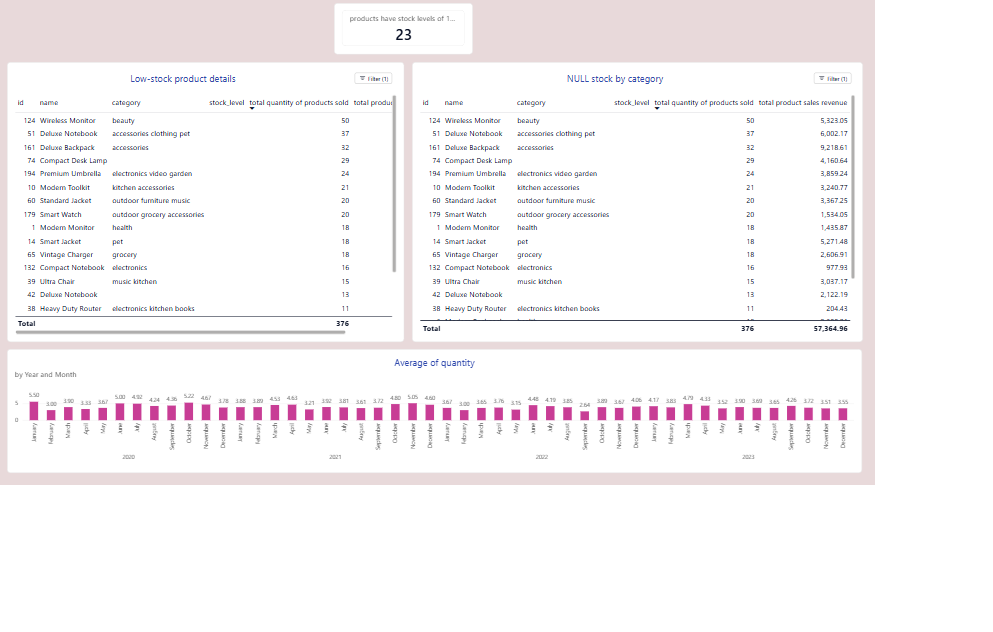

What the dashboard file says about the page in this screenshot:
{"tool":"powerbi","page":{"name":"Monthly quantity trendsupporting analysis","canvas":[1920,1080],"ordinal":3},"visuals":[{"type":"tableEx","title":"Low-stock product details","fields":{"Values":["Products.id","Products.name","Products.category","Products.stock_level","Order_items.total quantity of products sold","Order_items.total product sales revenue"]},"box":[28.1,149,857.5,604.8],"z":0},{"type":"columnChart","fields":{"Category":["Orders.order_date.Variation.Date Hierarchy.Year","Orders.order_date.Variation.Date Hierarchy.Month"],"Y":["Avg(Order_items.quantity)"]},"box":[28.1,769,1846.8,267.8],"z":1},{"type":"tableEx","title":"NULL stock by category","fields":{"Values":["Products.id","Products.name","Products.category","Products.stock_level","Order_items.total quantity of products sold","Order_items.total product sales revenue"]},"box":[901.9,148.5,974.2,604.8],"z":2},{"type":"cardVisual","fields":{"Data":["Products.products have stock levels of 10 or below"]},"box":[734.5,21.6,299.7,110.7],"z":3}]}

Visuals, with their boxes on the page's 1920x1080 design canvas (x1, y1, x2, y2). These are canvas units, not pixel positions in the 993x632 screenshot, which may show the page scaled, cropped or inside an application window:
"Low-stock product details" tableEx: {"x1": 28, "y1": 149, "x2": 886, "y2": 754}
columnChart - Orders.order_date.Variation.Date Hierarchy.Year x Orders.order_date.Variation.Date Hierarchy.Month: {"x1": 28, "y1": 769, "x2": 1875, "y2": 1037}
"NULL stock by category" tableEx: {"x1": 902, "y1": 148, "x2": 1876, "y2": 753}
cardVisual - Products.products have stock levels of 10 or below: {"x1": 734, "y1": 22, "x2": 1034, "y2": 132}
